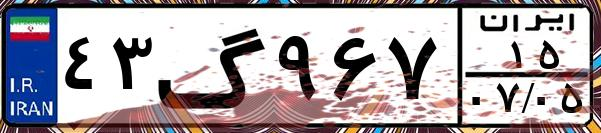0: (470, 70, 495, 125), (535, 70, 560, 125)
1: (508, 27, 537, 80)
3: (110, 28, 156, 98)
4: (57, 26, 110, 100)
5: (560, 70, 590, 125), (537, 27, 568, 80)
6: (330, 28, 385, 110)
7: (385, 28, 445, 110), (495, 70, 520, 125)
9: (270, 28, 330, 110)
گ: (156, 12, 270, 120)
